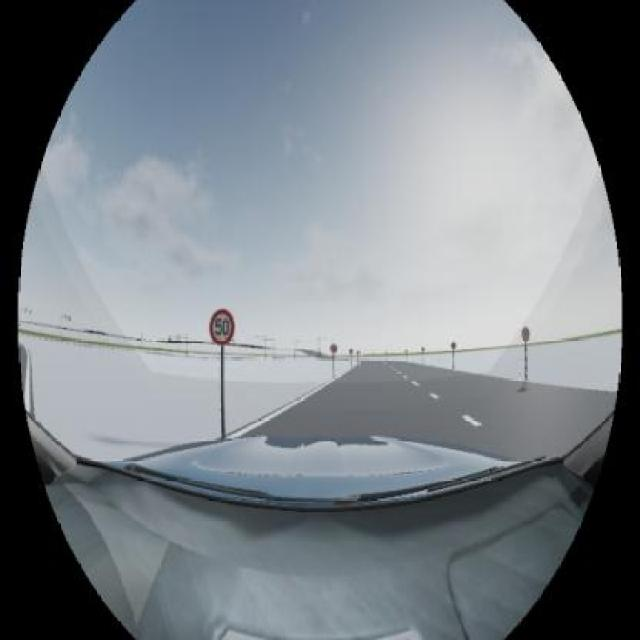forb_speed_over_50: (210, 309, 236, 345)
